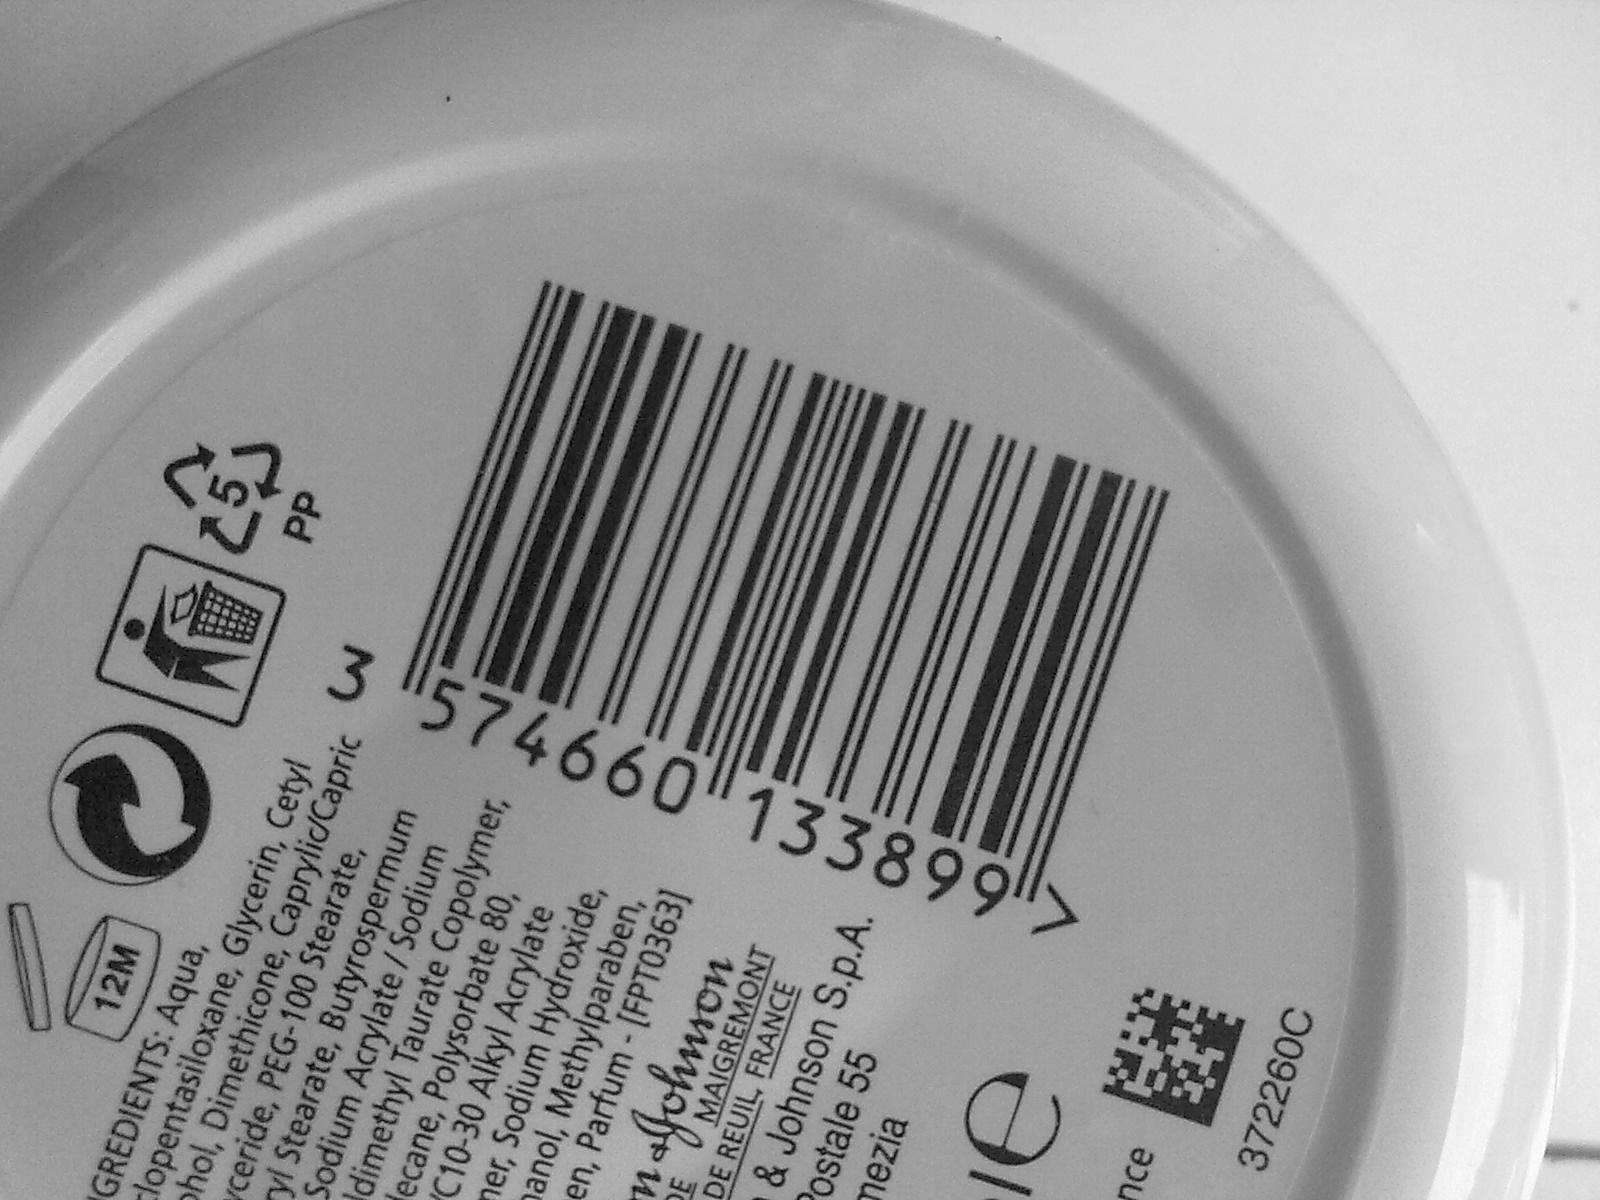Barcode: (457, 249, 1162, 910)
